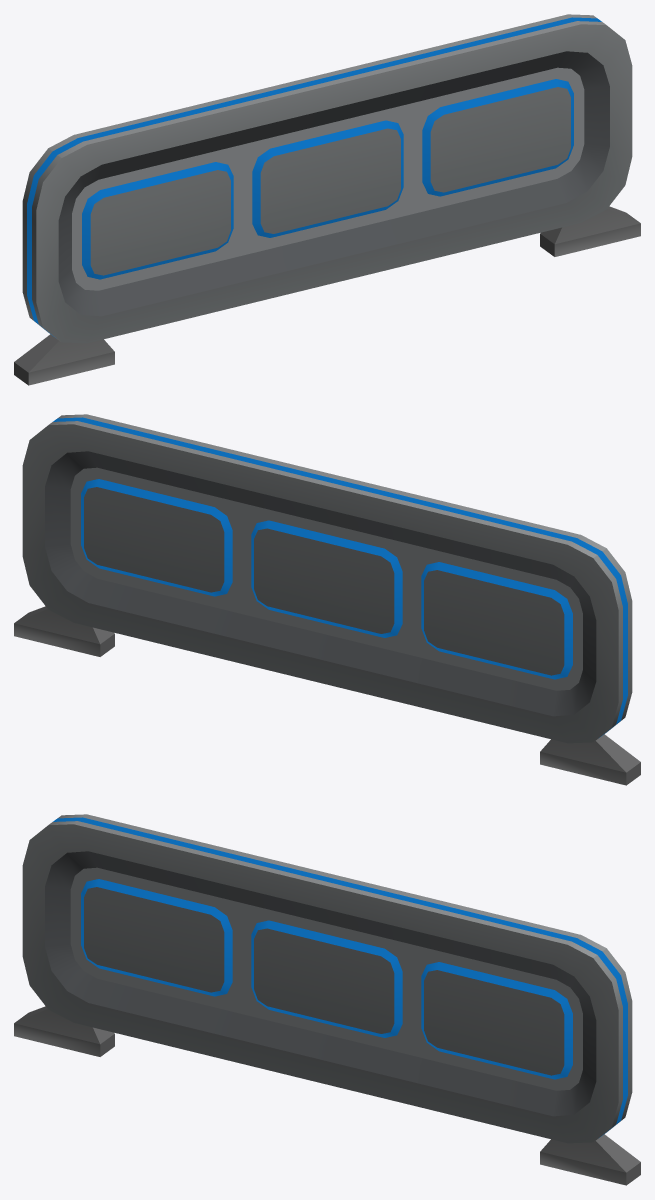
File: Fence_type_C_005.glb
3 views of the same model, one above another, from view 1: azimuth 30°, elevation 25°; view 2: azimuth 150°, elevation 25°; view 3: azimuth 330°, elevation 25° (orthographic).
Visible parts, largest first — view 1: Fence_type_C_005; view 2: Fence_type_C_005; view 3: Fence_type_C_005.
Boxes of the visible parts, bbox=[...] form: Fence_type_C_005: bbox=[14, 14, 640, 385]; Fence_type_C_005: bbox=[14, 414, 640, 785]; Fence_type_C_005: bbox=[14, 814, 640, 1185].
Size of the model in its own units: 4.01 by 1.41 by 0.1653.
Materials: 2 (2 with a texture image).
